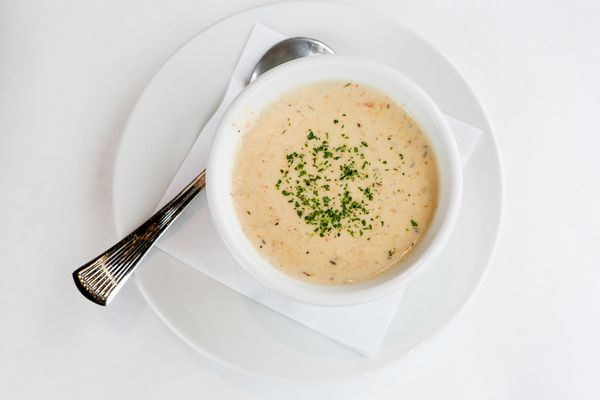salad: (72, 22, 274, 306), (72, 167, 207, 305)
sushi: (204, 44, 464, 307)
